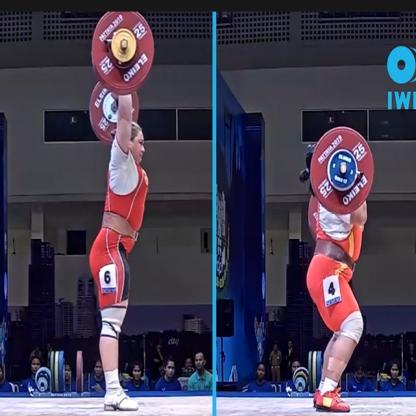Barbell: (120, 38, 133, 54), (340, 162, 350, 176)
